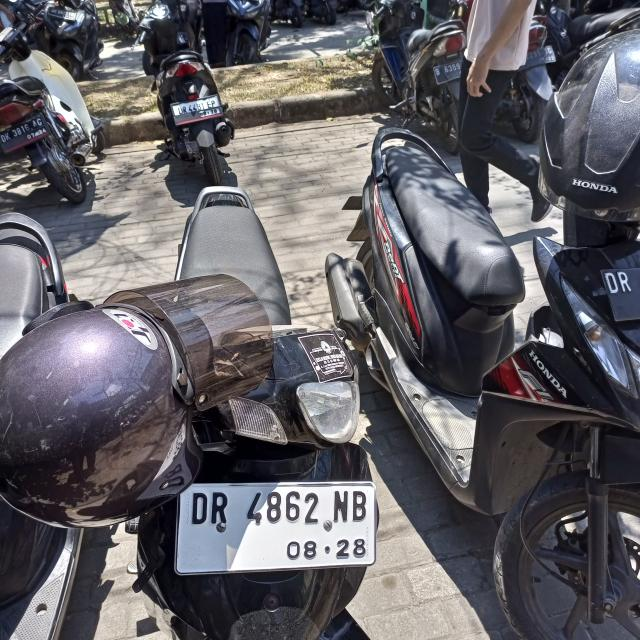plate: (178, 480, 378, 573), (0, 112, 51, 154), (170, 92, 224, 127)
